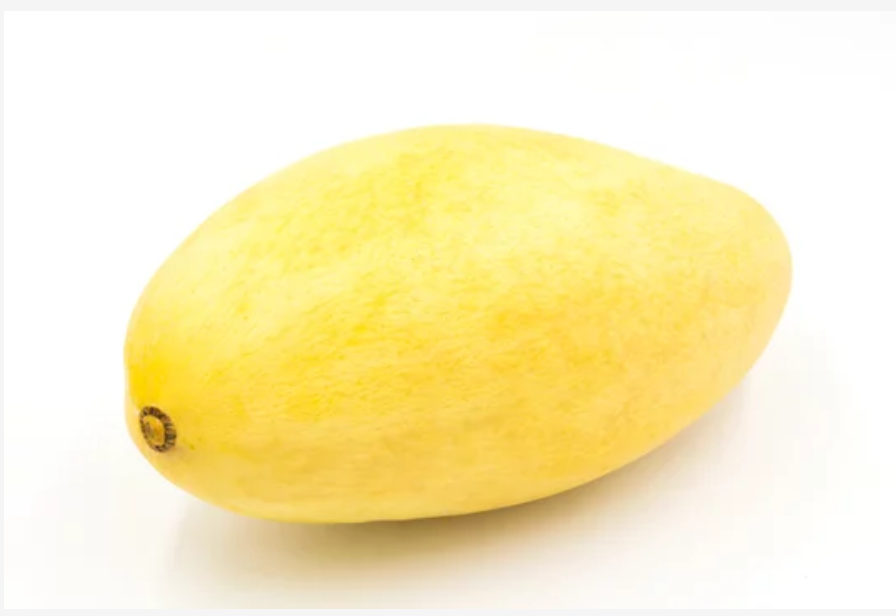mango: (126, 122, 793, 528)
